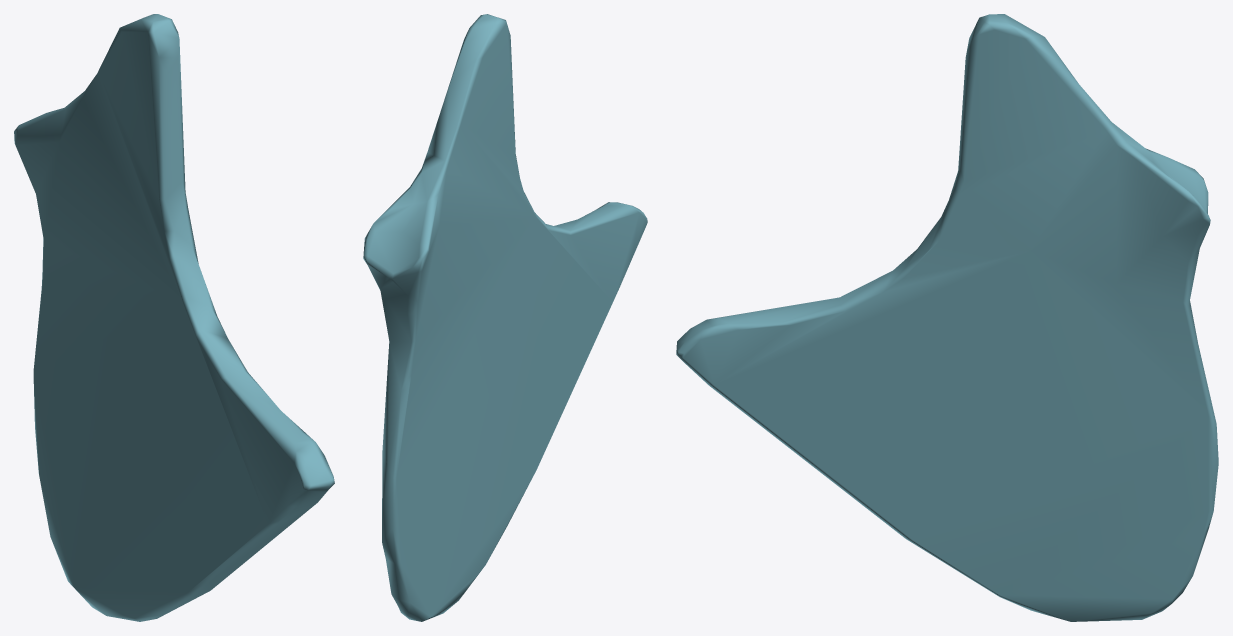
The picture shows the model from 3 angles, left to right: view 1: azimuth 30°, elevation 25°; view 2: azimuth 150°, elevation 25°; view 3: azimuth 270°, elevation 25°; orthographic projection. The views are drawn at different scales.
Visible parts, largest first — view 1: 鼻中隔软骨; view 2: 鼻中隔软骨; view 3: 鼻中隔软骨.
Boxes of the visible parts, x1=… form: 鼻中隔软骨: x1=14, y1=14, x2=334, y2=621; 鼻中隔软骨: x1=363, y1=14, x2=647, y2=621; 鼻中隔软骨: x1=676, y1=14, x2=1218, y2=621.
Bounding box in the file's own units: 0.00725 × 0.0623 × 0.0507.
